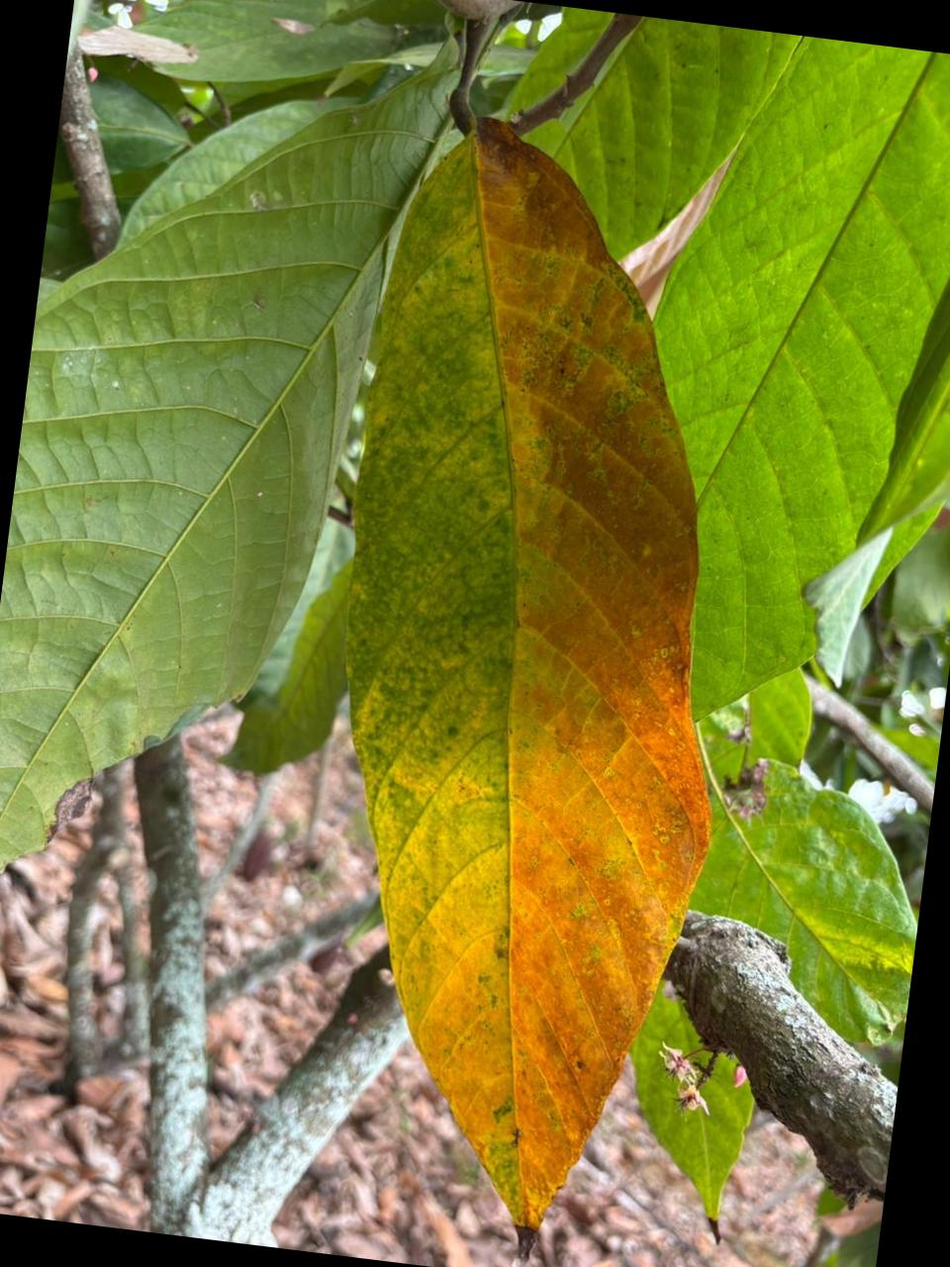Fosforo: (349, 119, 710, 1238)
